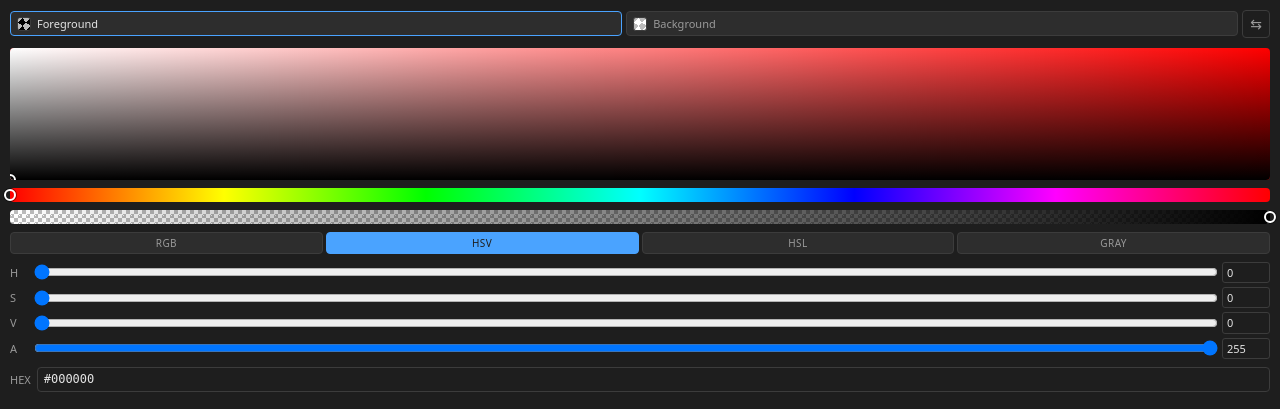
Test case: ColorPanel › edits the foreground by default and follows the selected slot
Replace the text in the field named "Foreground colour hex value" with "#00ff00": (653, 380) [37,367,1270,392]
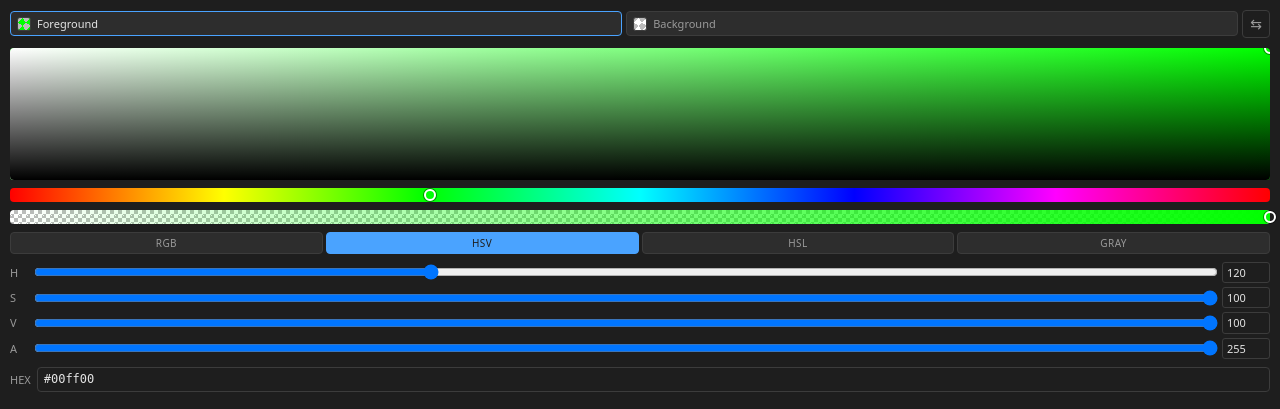
Click the button "Background": click(684, 24) [626,11,1238,36]
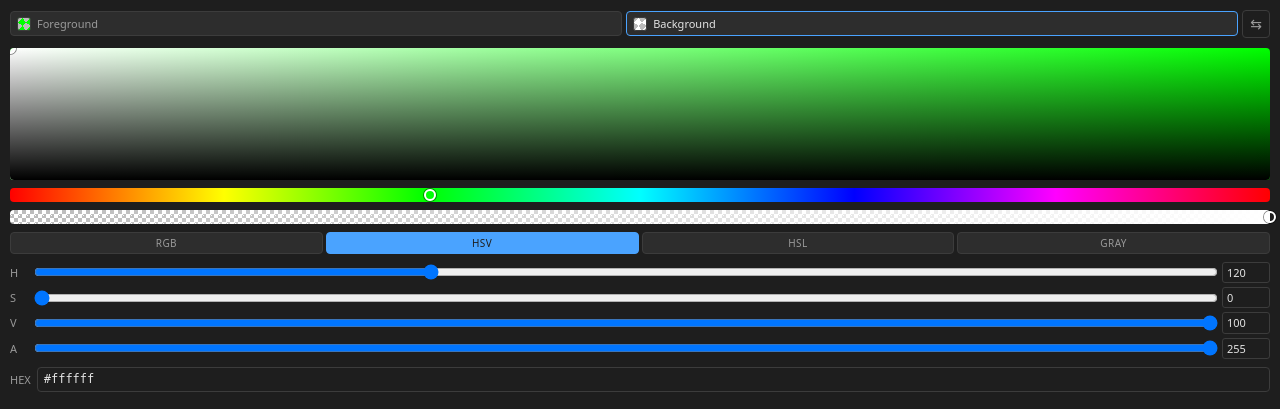
Expected: the element named "Background colour" is shown
